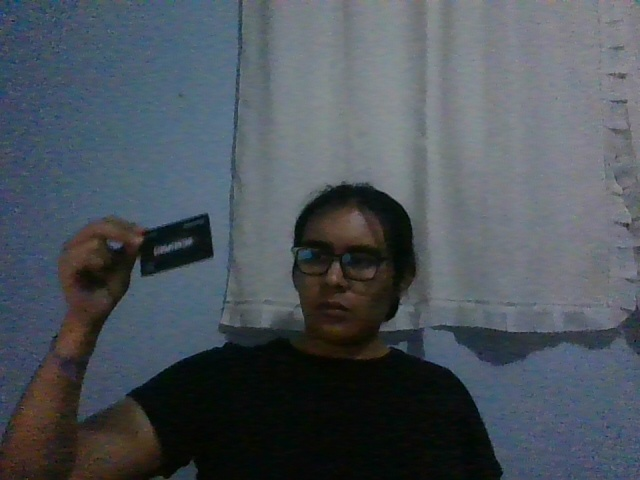tarjeta: (139, 212, 214, 278)
